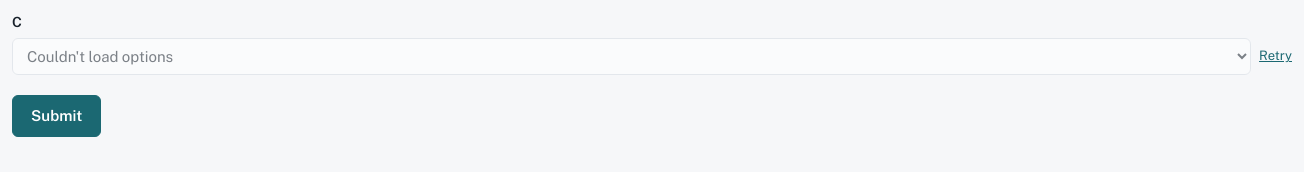
Scenario: async UI states › shows a loader error with a retry that reloads options
This screenshot has width=1304, height=172.
Click the button "Retry" at [1276, 57], box [1259, 47, 1292, 66]
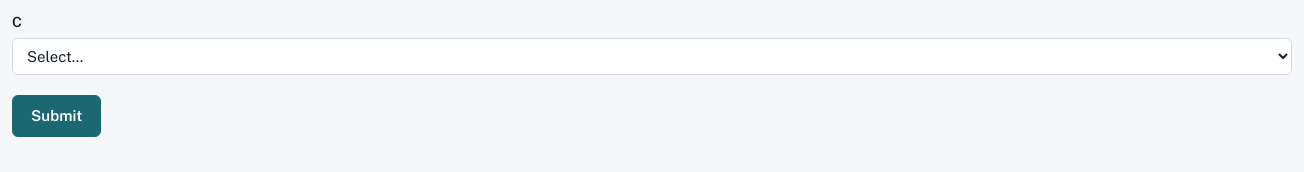
Expected: the dropdown labelled "C" is enabled, [12, 38, 1292, 75]
